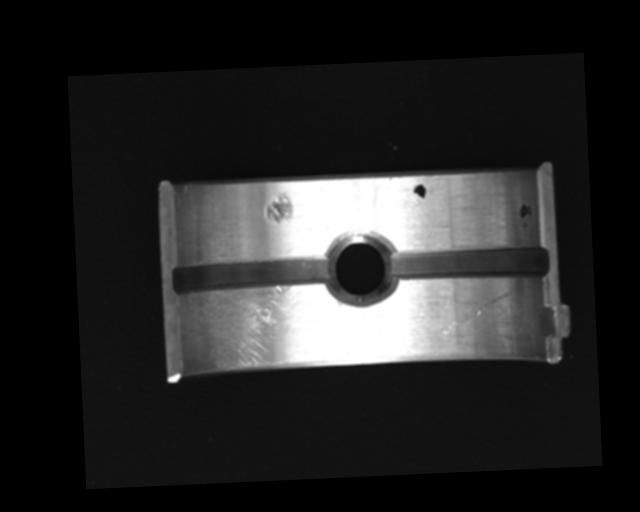blot: (518, 202, 533, 231), (412, 183, 426, 203)
bruise: (264, 188, 293, 224)
gap: (171, 254, 337, 296), (388, 241, 551, 283)
hole: (324, 228, 401, 310)
nick: (438, 290, 514, 335)
scratch: (187, 283, 332, 372)
